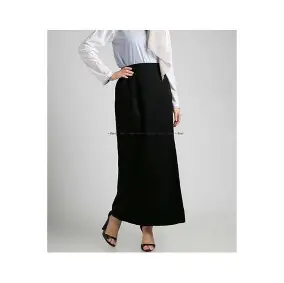kemeja_benar: (111, 29, 163, 63)
rok_benar: (108, 69, 181, 213)
